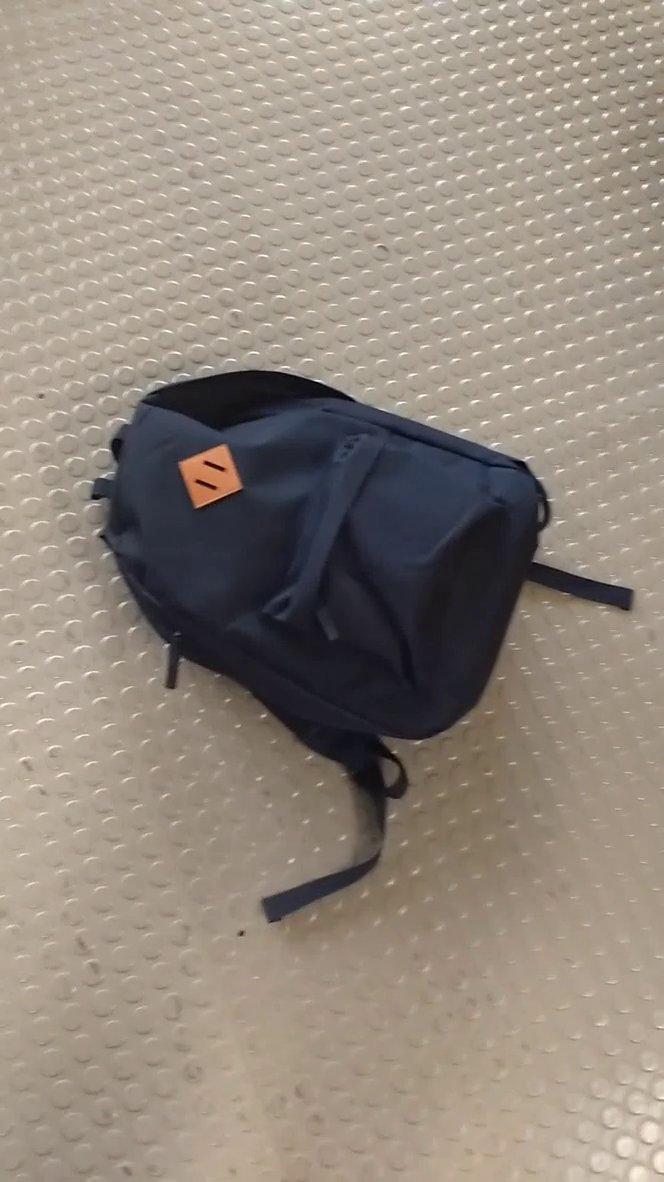bag: (85, 361, 646, 931)
